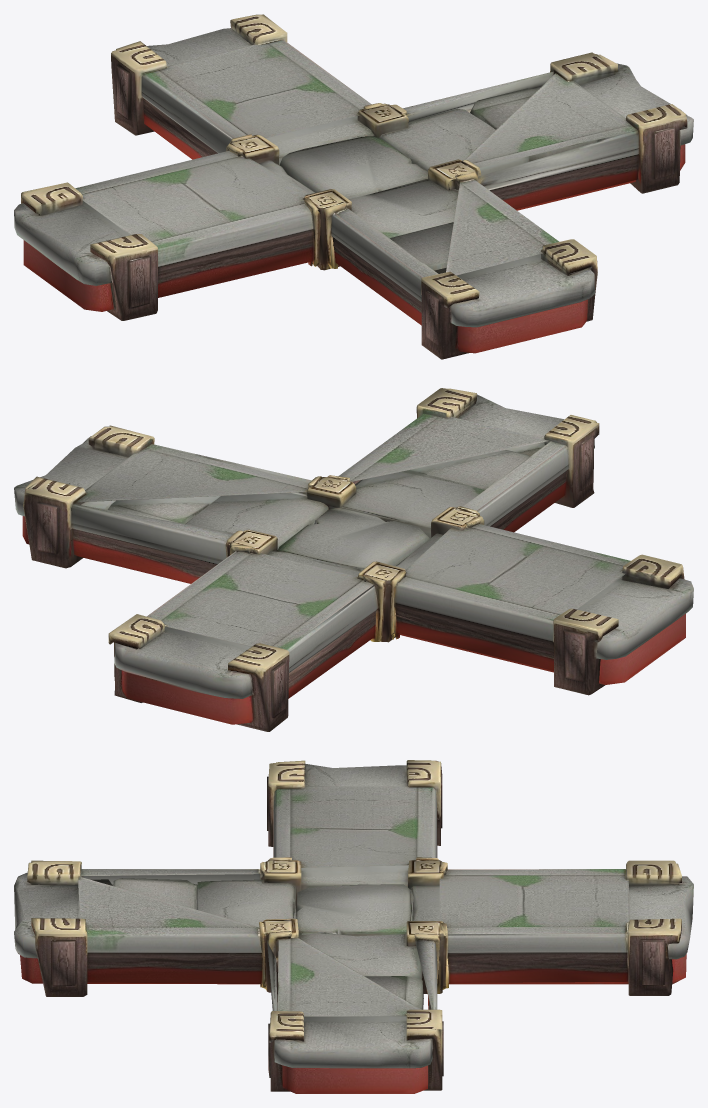
File: tripo_convert_8fd2b18b-d6b0-4a54-8abd-e99cd69f860d.fbx
The picture shows the model from 3 angles, top to bottom: view 1: azimuth 30°, elevation 25°; view 2: azimuth 150°, elevation 25°; view 3: azimuth 270°, elevation 25°; orthographic projection. The views are drawn at different scales.
Parts seen in each view (by area): view 1: tripo_node_8fd2b18b; view 2: tripo_node_8fd2b18b; view 3: tripo_node_8fd2b18b.
Part boxes in pixels (x1=…): tripo_node_8fd2b18b: x1=14, y1=14, x2=693, y2=359; tripo_node_8fd2b18b: x1=14, y1=388, x2=693, y2=731; tripo_node_8fd2b18b: x1=14, y1=760, x2=693, y2=1093.
Size of the model in its own units: 0.998 by 0.1035 by 0.998.
1 material, 1 textured.
